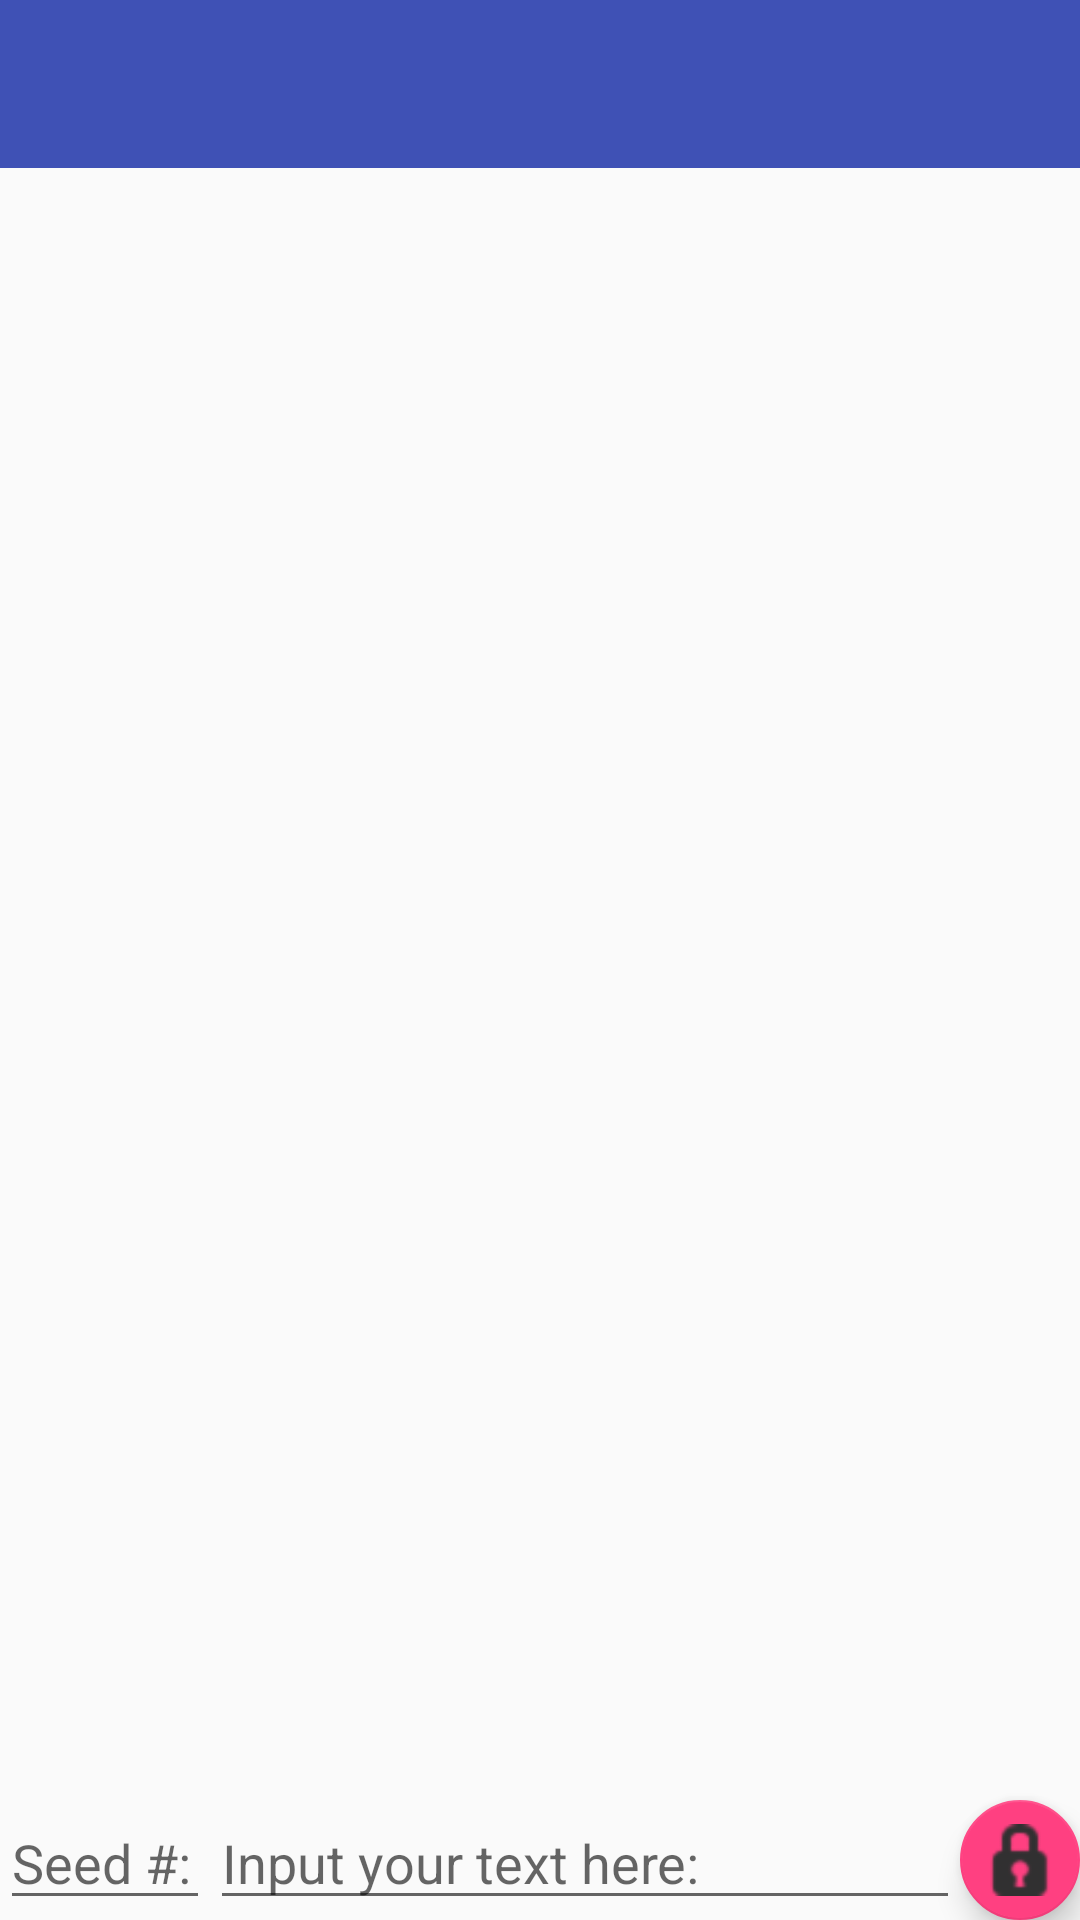

Point at icon controls on the screen. Image size 1080*1920, points as (x=x, y=y).
secure: (x=1020, y=1860)
